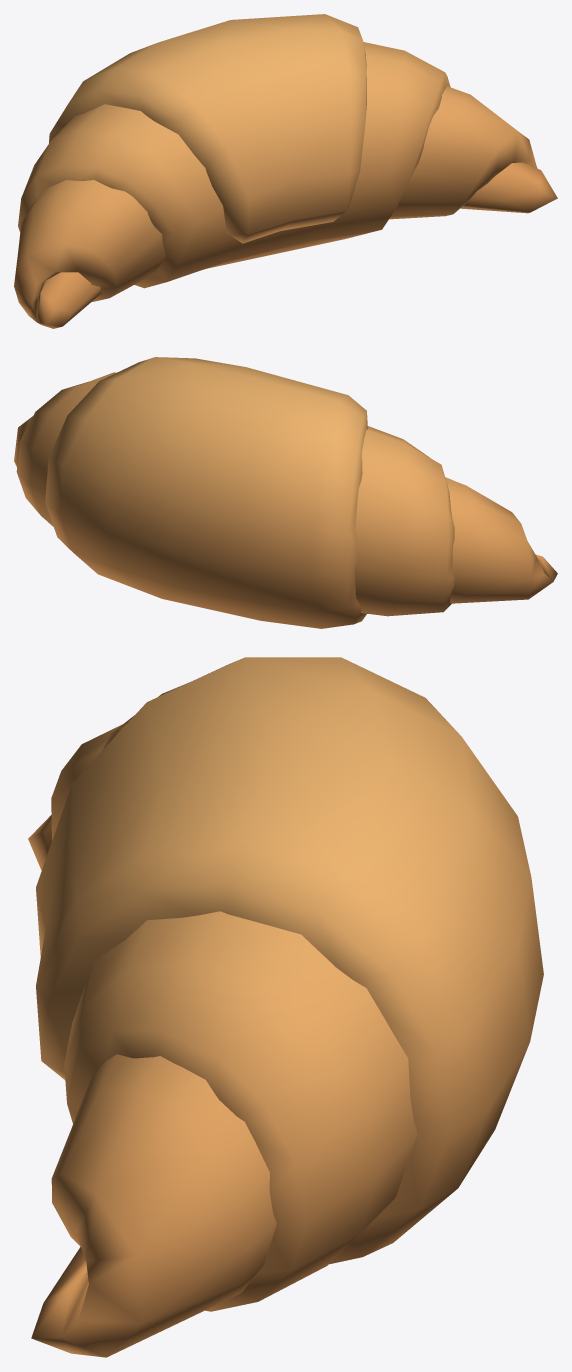
Rendered from croissant.fbx.
3 views of the same model, one above another, from view 1: azimuth 30°, elevation 25°; view 2: azimuth 150°, elevation 25°; view 3: azimuth 270°, elevation 25° (orthographic). The views are drawn at different scales.
Visible parts, largest first — view 1: croissant; view 2: croissant; view 3: croissant.
Part boxes in pixels (<box>): croissant: <box>14,14,557,328</box>; croissant: <box>14,357,557,628</box>; croissant: <box>28,657,543,1357</box>.
Bounding box in the file's own units: 175 × 70.71 × 75.99.
